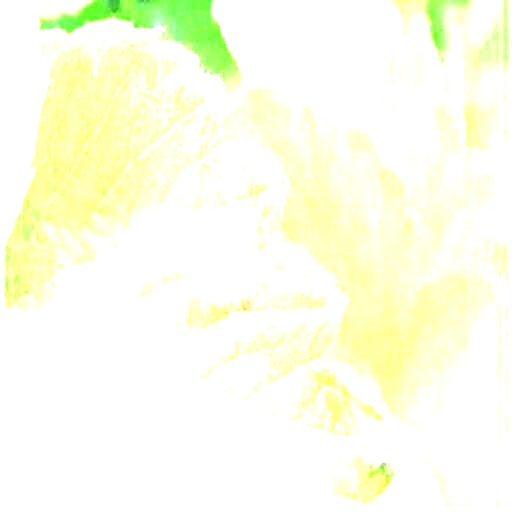Leaf Spot: (3, 25, 412, 508), (2, 0, 43, 247)
